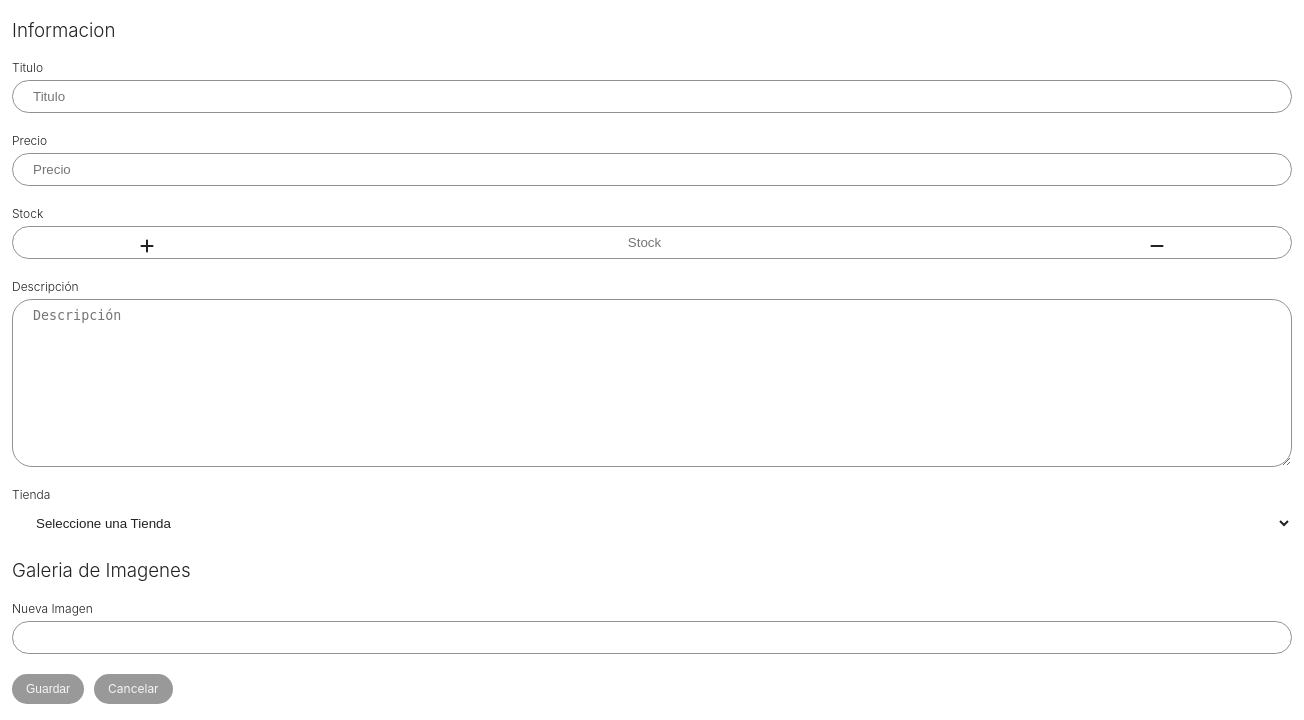
Scenario: Formulario de productos › Titulo
asigno el evento al input
Step 1. Click the field labelled "Titulo" → click(652, 97), box [12,80,1292,113]
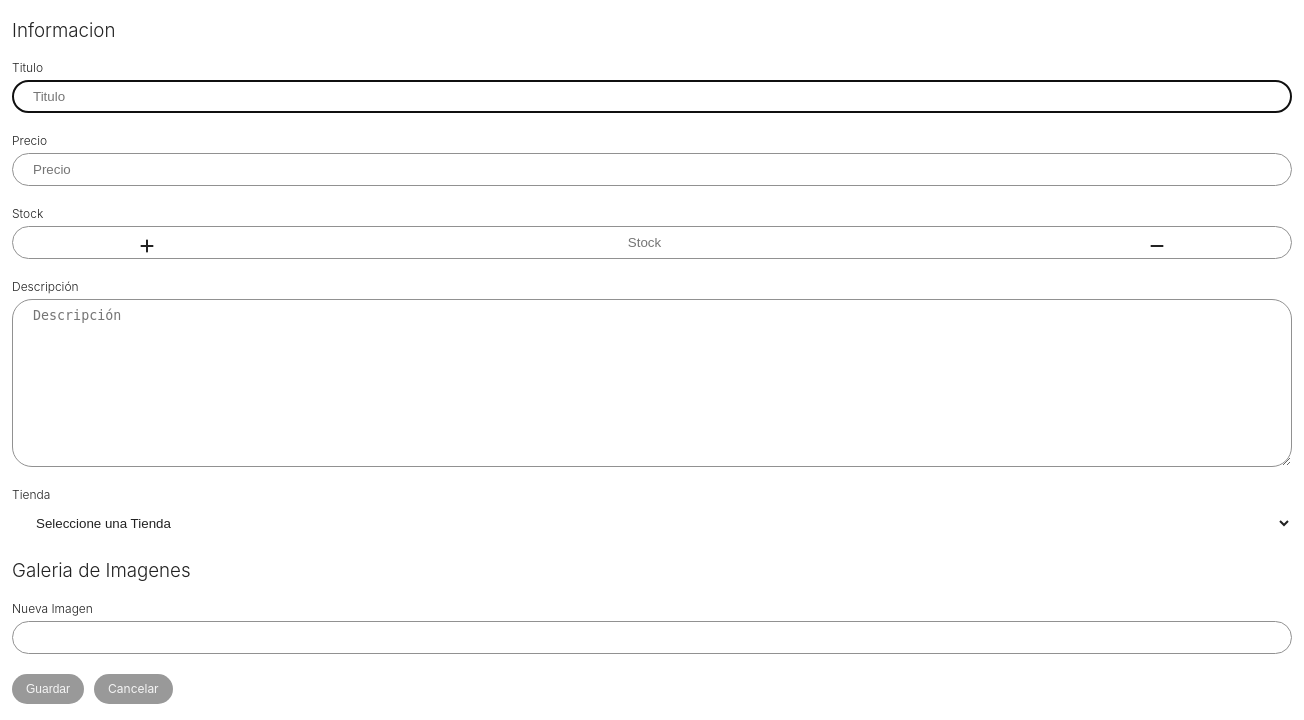
Agrego contenido al input
Step 2. Type keys "Alfajor"
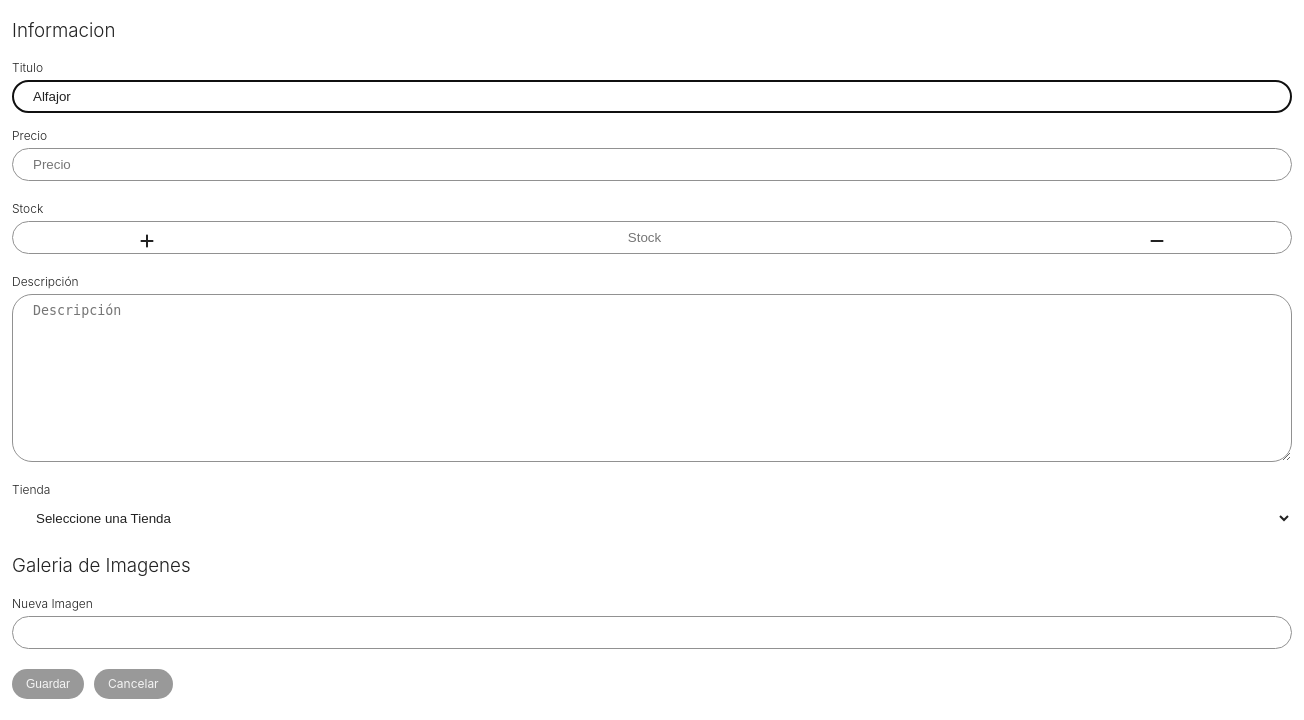
Expected: the field showing "Alfajor" is shown, [12,80,1292,113]
